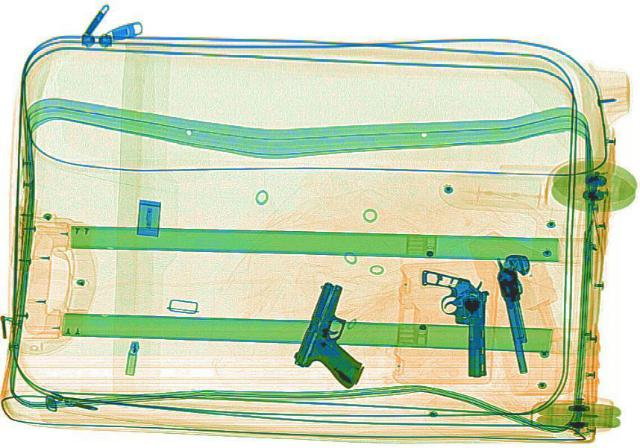Gun: (283, 280, 391, 389), (418, 267, 490, 376), (496, 251, 532, 372)
